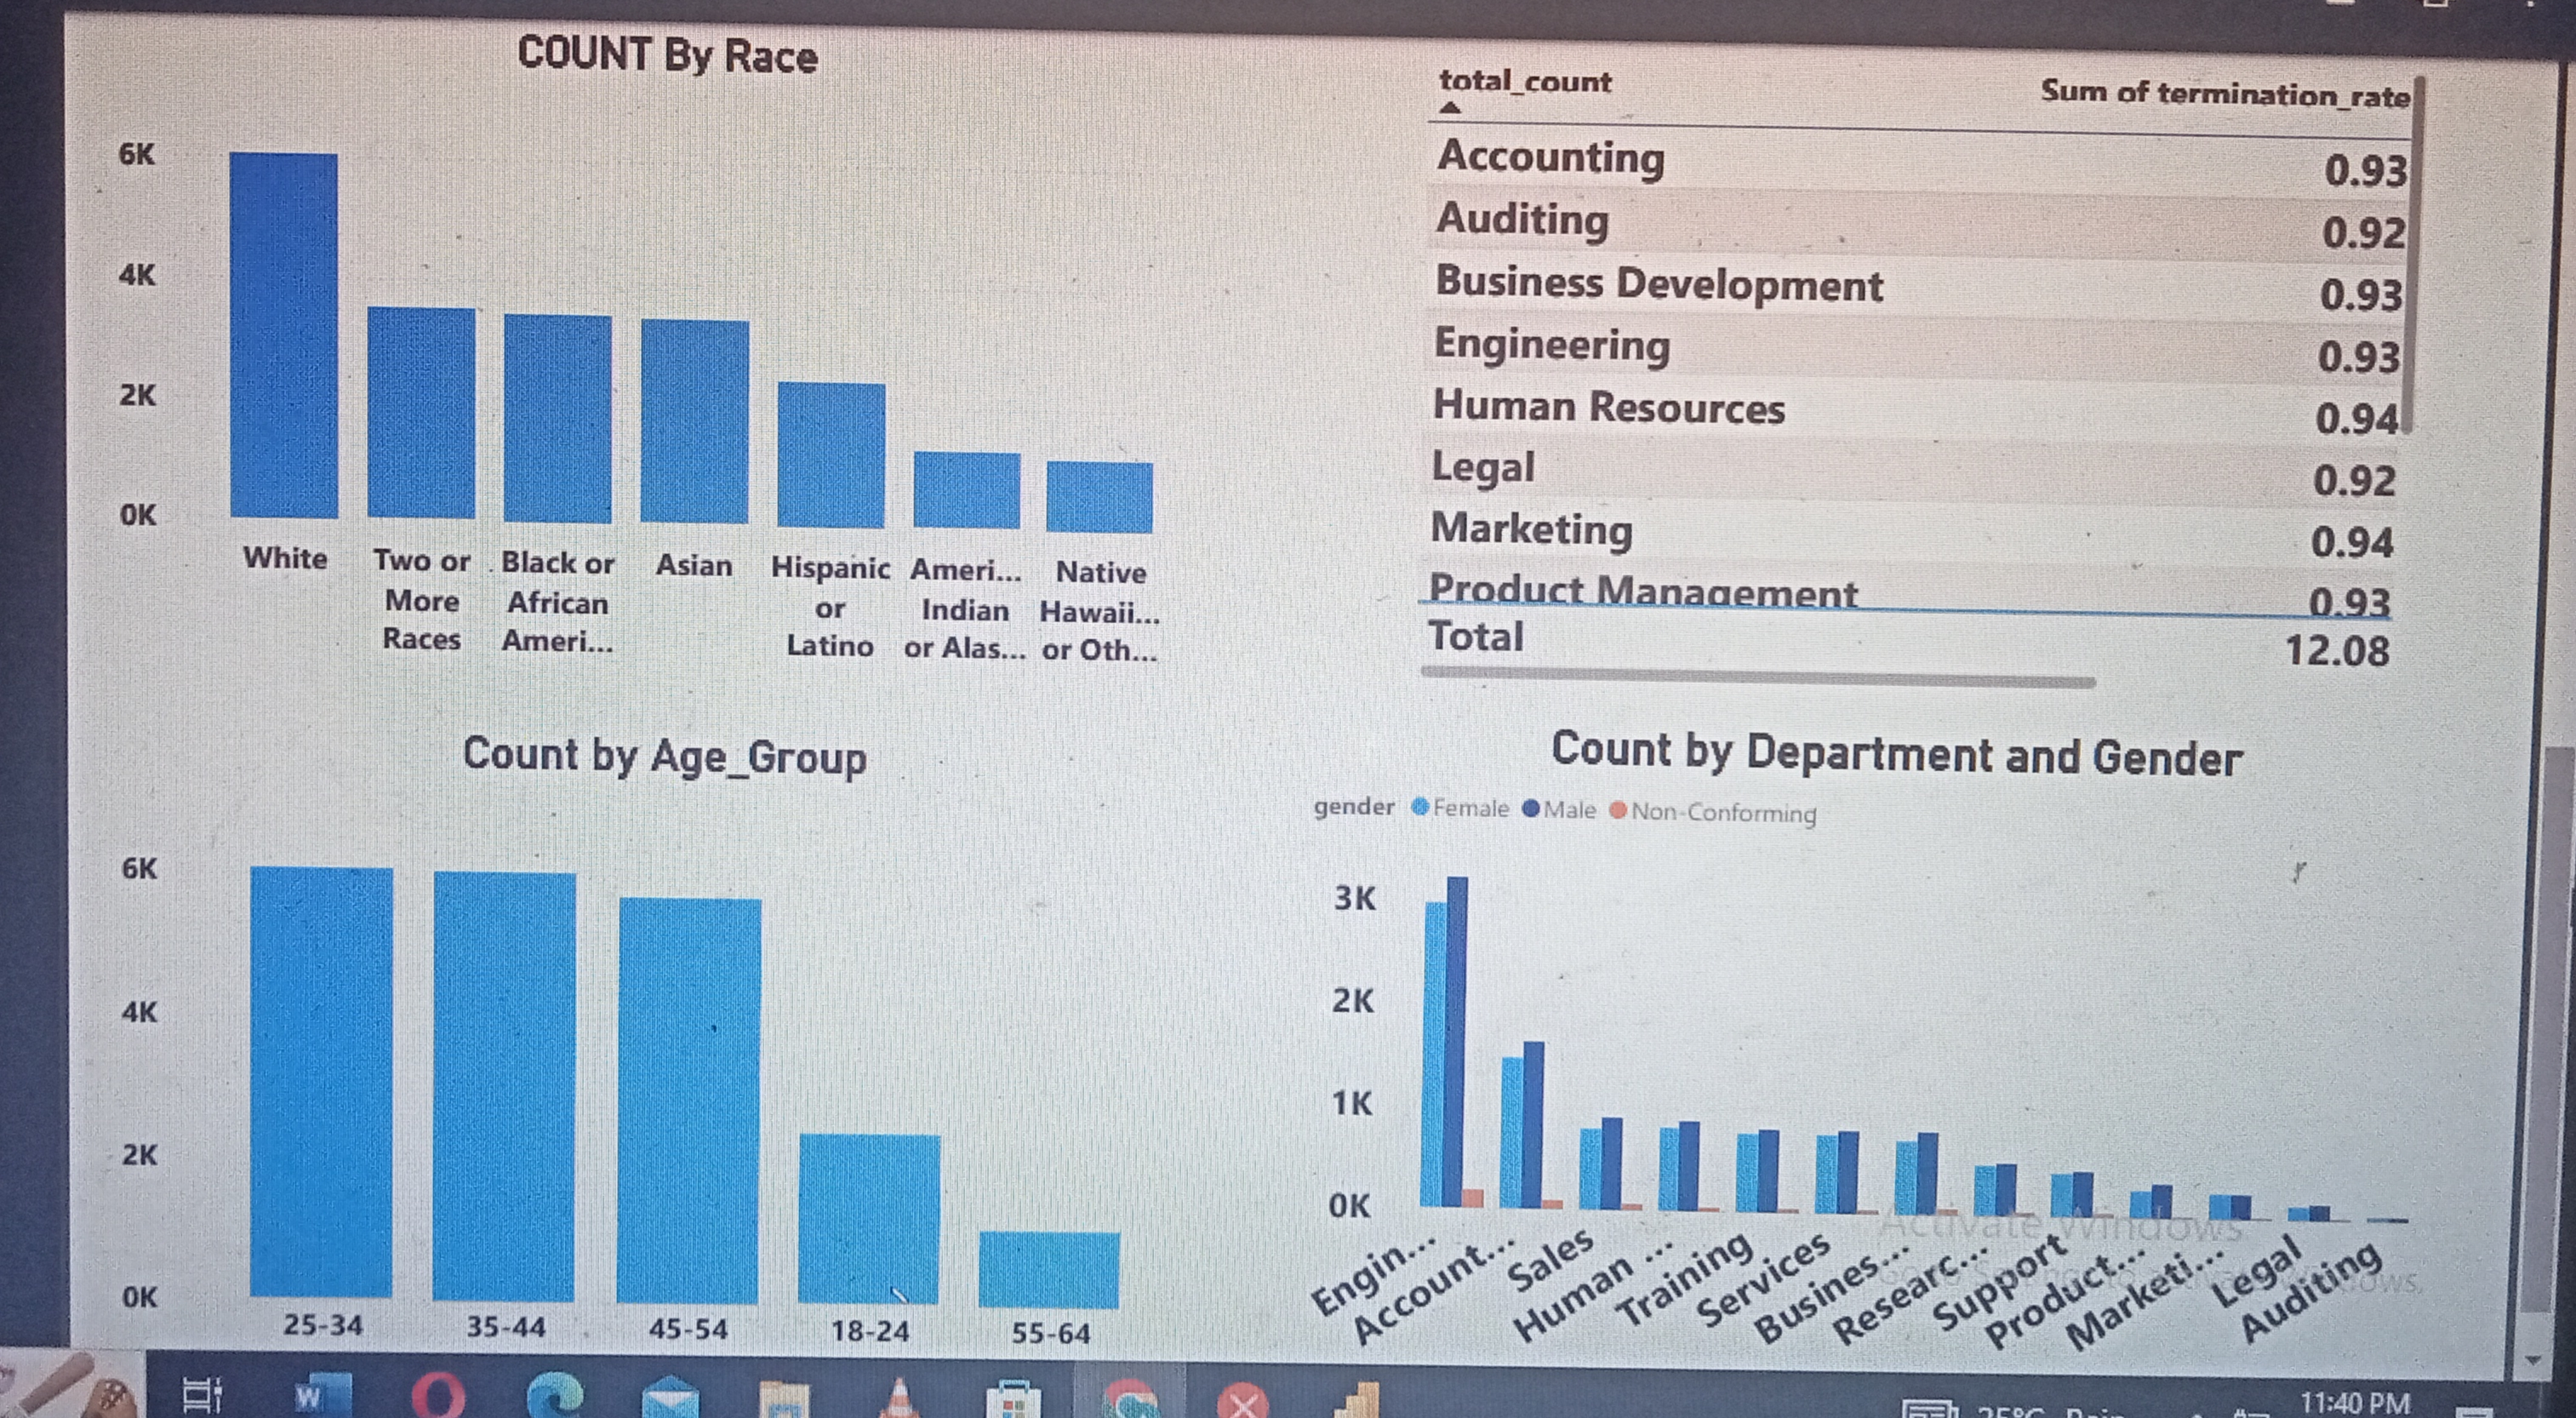

The dashboard page shown, as its layout file describes it:
{"tool":"powerbi","page":{"name":"Page 2","canvas":[1280,720],"ordinal":1},"visuals":[{"type":"clusteredColumnChart","title":"COUNT By Race","fields":{"Y":["Sum(Race.COUNT)"],"Category":["Race.race"]},"box":[0,0,591.2,345.3],"z":0},{"type":"clusteredColumnChart","title":"Count by Age_Group","fields":{"Y":["Sum(Age group.count)"],"Category":["Age group.age_group"]},"box":[0,373.9,591.2,346.9],"z":1000},{"type":"tableEx","fields":{"Values":["termination rate.total_count","Sum(termination rate.termination_rate)","Sum(termination rate.terminated_count)"]},"box":[693.9,0,544,345.3],"z":2000},{"type":"clusteredColumnChart","title":"Count by Department and Gender","fields":{"Y":["Sum(gender department.count)"],"Category":["gender department.department"],"Series":["gender department.gender"]},"box":[640,360.4,640,360.4],"z":3000}]}

Visuals, with their boxes on the page's 1280x720 design canvas (x1, y1, x2, y2). These are canvas units, not pixel positions in the 2576x1418 screenshot, which may show the page scaled, cropped or inside an application window:
"COUNT By Race" clusteredColumnChart: bbox(0, 0, 591, 345)
"Count by Age_Group" clusteredColumnChart: bbox(0, 374, 591, 721)
tableEx - termination rate.total_count x Sum(termination rate.termination_rate): bbox(694, 0, 1238, 345)
"Count by Department and Gender" clusteredColumnChart: bbox(640, 360, 1280, 721)
